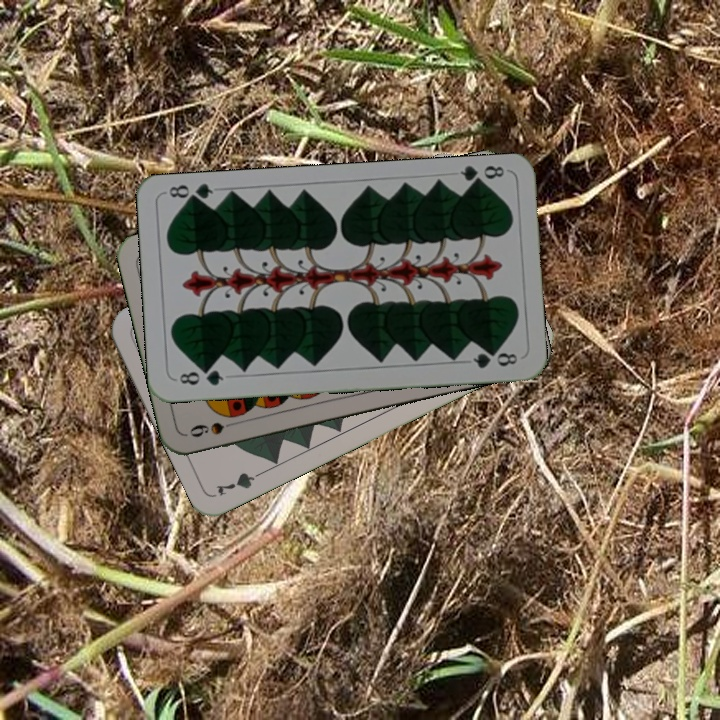G7: (212, 465, 269, 499)
G8: (456, 161, 507, 190), (175, 365, 226, 389)
S9: (185, 418, 243, 440)
